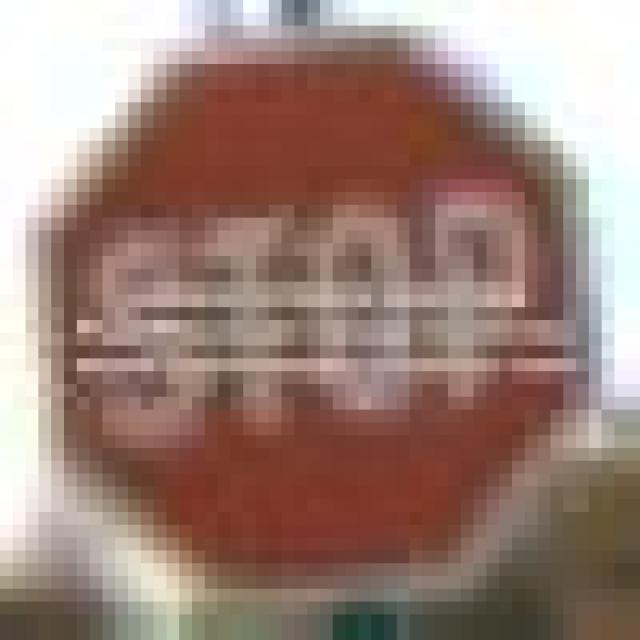STOP: (26, 26, 602, 576)
